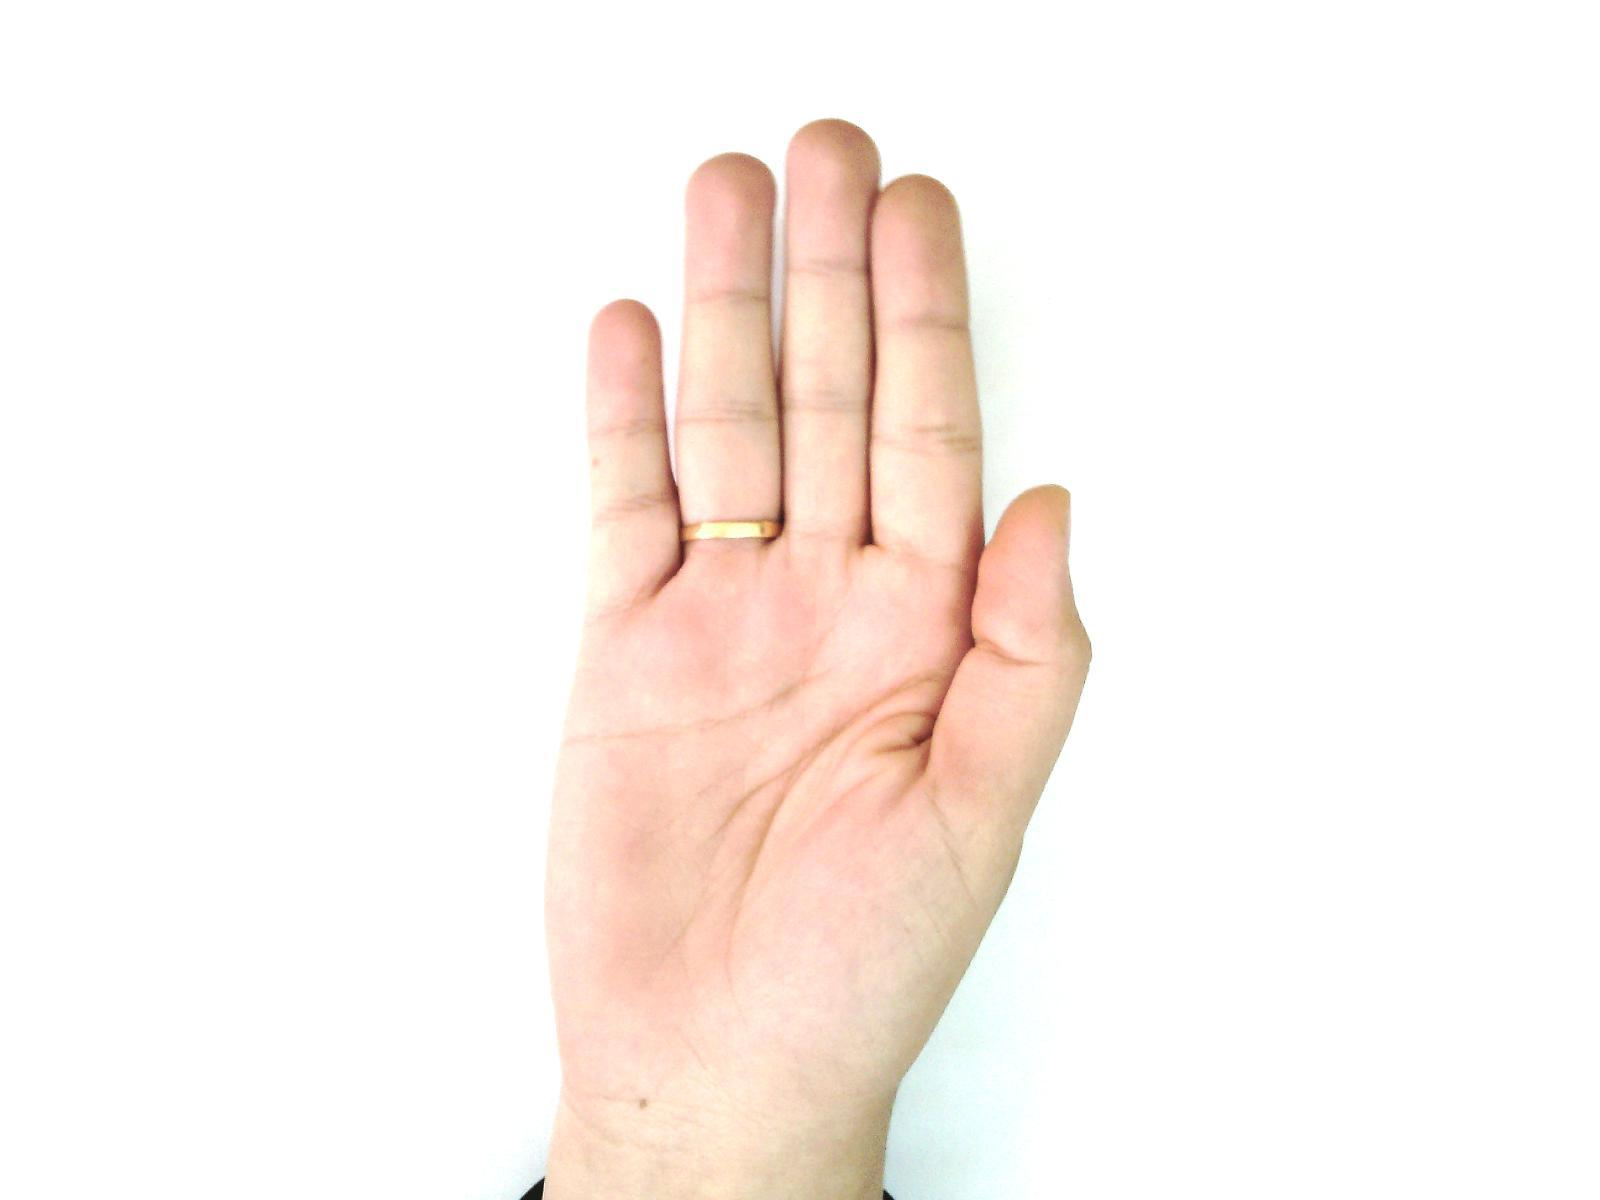hand: (542, 111, 1102, 1162)
